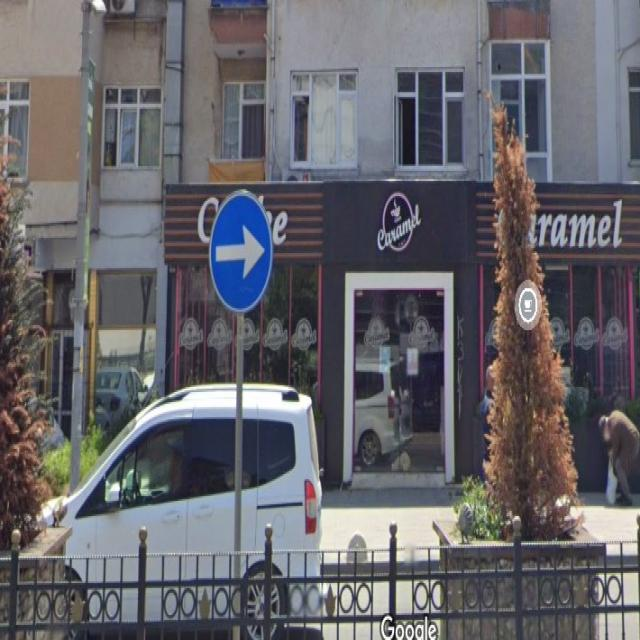Turn Right: (210, 199, 272, 309)
